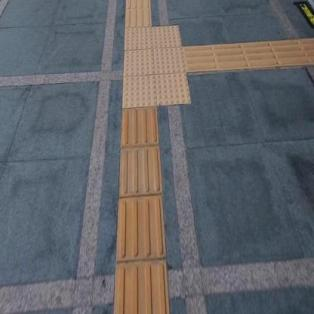Podoctatil: (117, 108, 172, 313), (116, 17, 206, 124), (188, 41, 313, 72), (124, 0, 153, 26)
